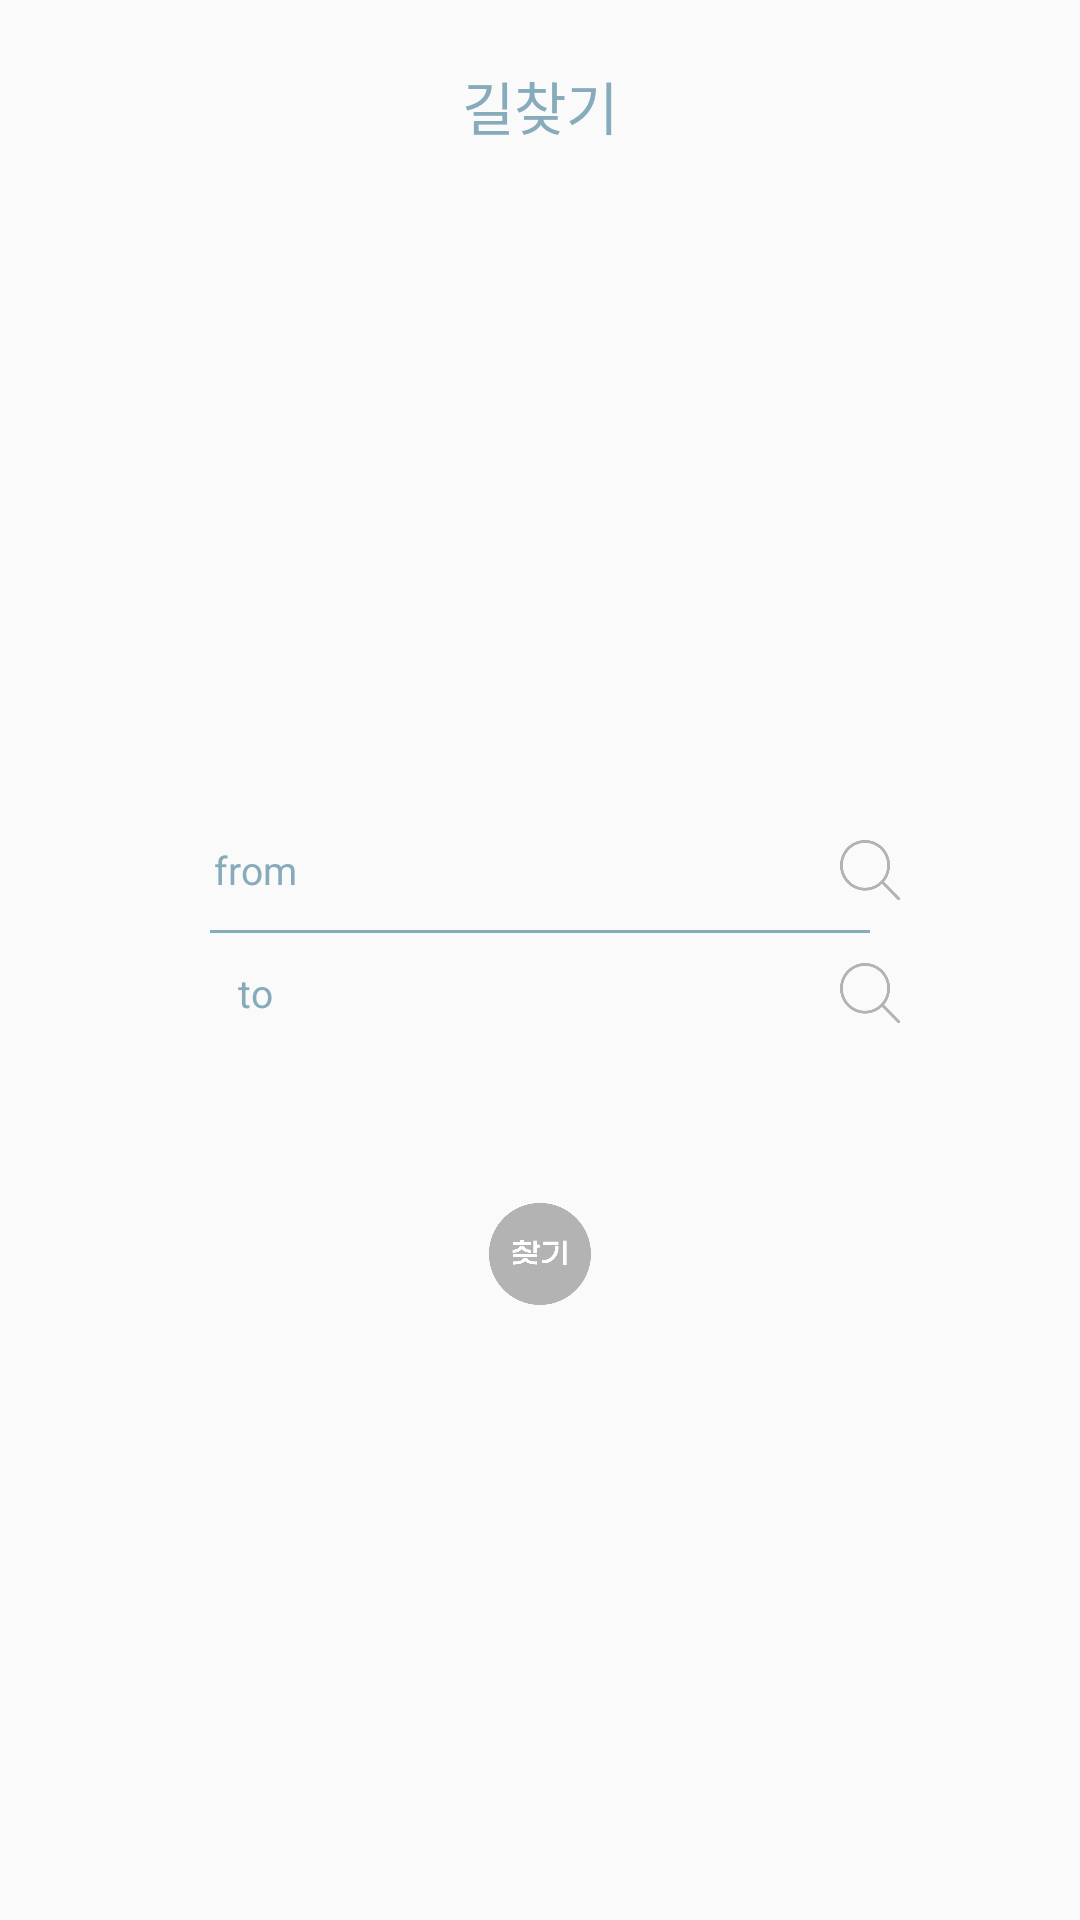

Icons on this 1080 x 1920 Android screen, each with the point to tap as point (x, y):
search: point (870, 870), point (870, 993)
